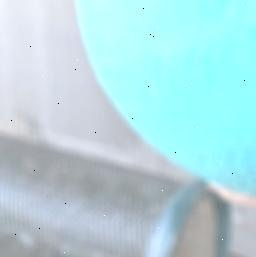algae: (76, 0, 256, 198)
